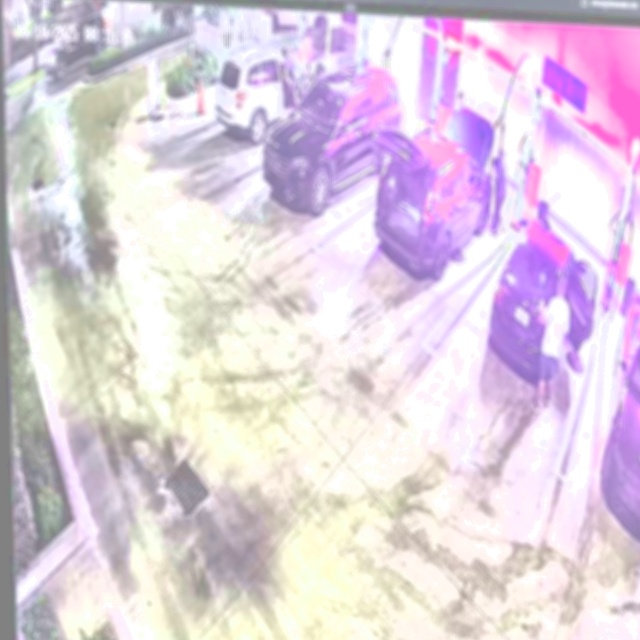Car: (376, 103, 492, 285), (265, 59, 403, 205)
